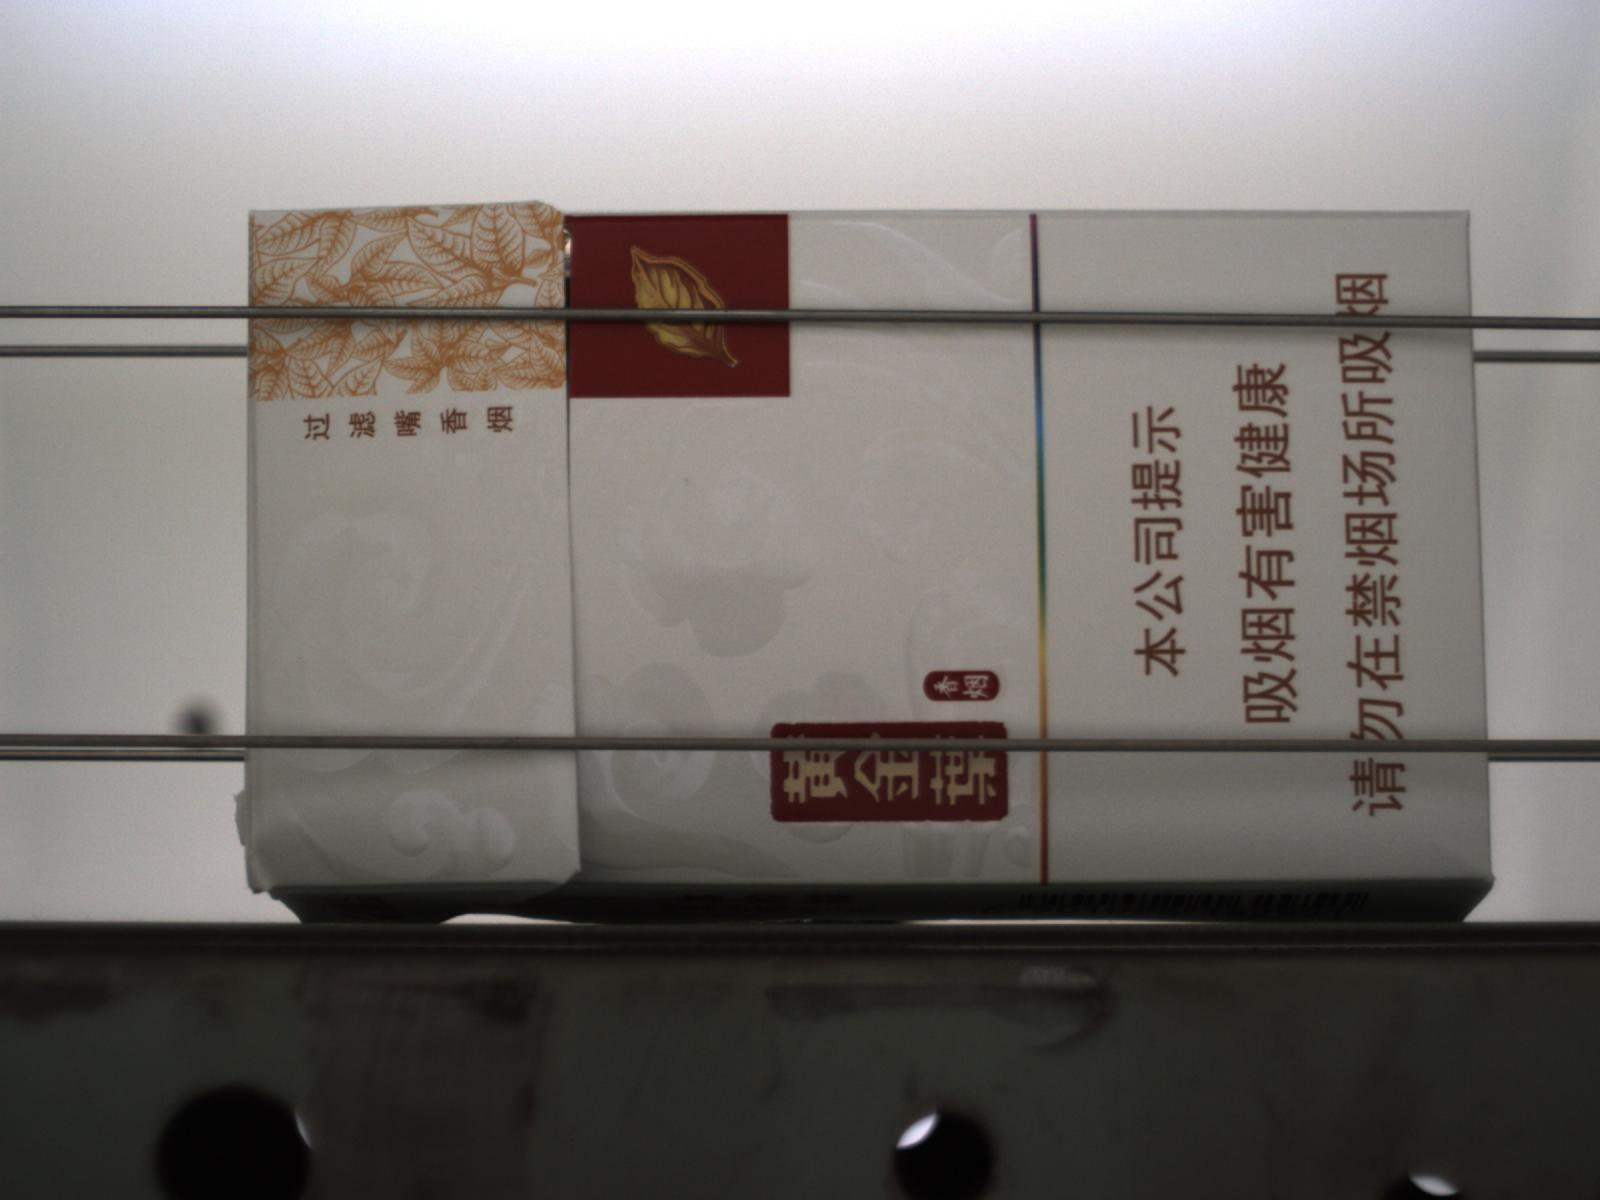dirtySpot: (682, 475, 694, 487)
frame: (247, 889, 571, 926)
